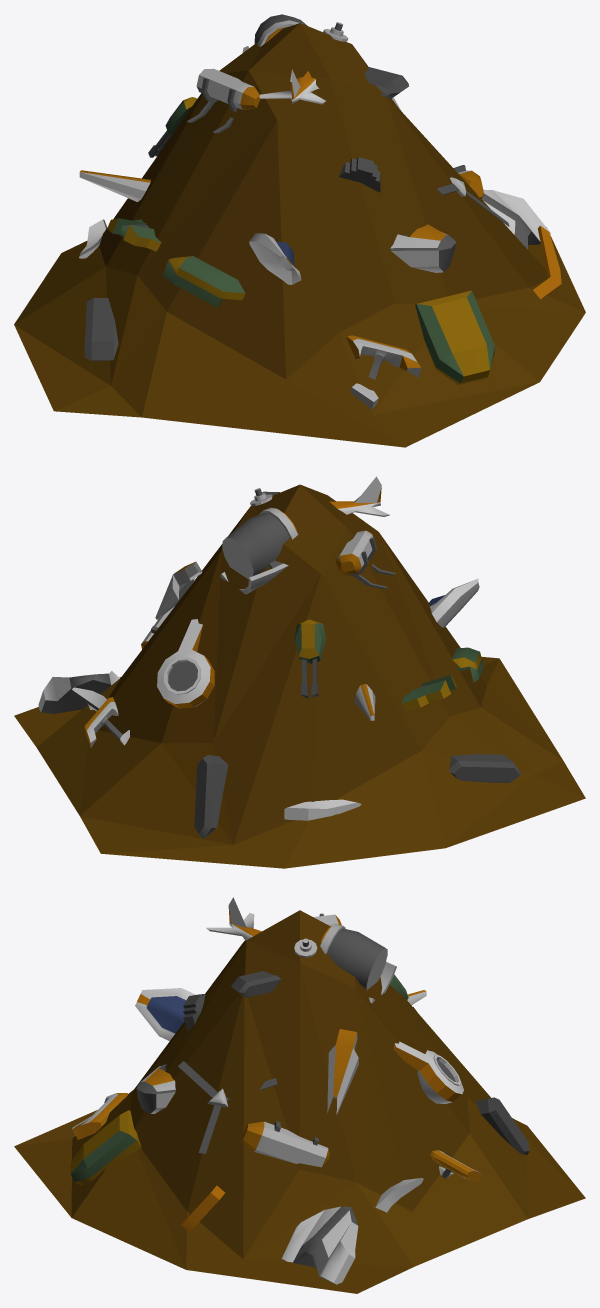
File: prop_largejunkpile1.fbx
3 renders of one model, top to bottom at view 1: azimuth 30°, elevation 25°; view 2: azimuth 150°, elevation 25°; view 3: azimuth 270°, elevation 25°, orthographic. The views are drawn at different scales.
Parts seen in each view (by area): view 1: pPlane1, junkedtank:pCube1, mini_coptor_built:pCube1, junkedtank:pCube11, mini_coptor_built:polySurface7, mini_coptor_built:polySurface6, junkedtank:pCube8, prop_junkedclawheli:polySurface12, prop_junkedclawheli:polySurface10, junkedtank:pCube3, prop_junkedclawheli:polySurface16, prop_junkedclawheli:polySurface11 (+4 smaller); view 2: pPlane1, mini_coptor_built:polySurface10, prop_junkedclawheli:polySurface14, junkedtank:pCube6, prop_junkedclawheli:polySurface12, junkedtank:pCube8, junkedtank:pCube7, mini_coptor_built:polySurface7, prop_junkedclawheli:polySurface10, prop_junkedclawheli:polySurface28, junkedtank:pCube3, mini_coptor_built:pCube4 (+4 smaller); view 3: pPlane1, prop_junkedclawheli:polySurface12, mini_coptor_built:polySurface10, junkedtank:pCube1, mini_coptor_built:polySurface8, prop_junkedclawheli:polySurface14, prop_junkedclawheli:polySurface10, mini_coptor_built:pCube4, mini_coptor_built:pCube1, junkedtank:pCube6, mini_coptor_built:pCube10, junkedtank:pCube5 (+6 smaller).
Part boxes in pixels (left/top/right/bottom): pPlane1: left=14, top=23, right=585, bottom=447; junkedtank:pCube1: left=415, top=290, right=494, bottom=384; mini_coptor_built:pCube1: left=79, top=170, right=456, bottom=272; junkedtank:pCube11: left=162, top=256, right=245, bottom=307; mini_coptor_built:polySurface7: left=187, top=68, right=260, bottom=133; mini_coptor_built:polySurface6: left=346, top=335, right=421, bottom=409; junkedtank:pCube8: left=84, top=298, right=118, bottom=360; prop_junkedclawheli:polySurface12: left=481, top=189, right=550, bottom=249; prop_junkedclawheli:polySurface10: left=249, top=233, right=301, bottom=284; junkedtank:pCube3: left=107, top=218, right=161, bottom=251; prop_junkedclawheli:polySurface16: left=533, top=225, right=561, bottom=299; prop_junkedclawheli:polySurface11: left=259, top=69, right=325, bottom=104; pPlane1: left=14, top=484, right=585, bottom=868; mini_coptor_built:polySurface10: left=220, top=507, right=298, bottom=594; prop_junkedclawheli:polySurface14: left=157, top=619, right=214, bottom=708; junkedtank:pCube6: left=194, top=755, right=228, bottom=838; prop_junkedclawheli:polySurface12: left=38, top=671, right=119, bottom=713; junkedtank:pCube8: left=449, top=754, right=520, bottom=782; junkedtank:pCube7: left=294, top=619, right=326, bottom=698; mini_coptor_built:polySurface7: left=335, top=530, right=395, bottom=588; prop_junkedclawheli:polySurface10: left=429, top=578, right=479, bottom=627; prop_junkedclawheli:polySurface28: left=284, top=799, right=361, bottom=820; junkedtank:pCube3: left=401, top=675, right=456, bottom=711; mini_coptor_built:pCube4: left=155, top=561, right=202, bottom=619; pPlane1: left=14, top=910, right=585, bottom=1293; prop_junkedclawheli:polySurface12: left=281, top=1206, right=358, bottom=1284; mini_coptor_built:polySurface10: left=320, top=924, right=396, bottom=1003; junkedtank:pCube1: left=70, top=1110, right=141, bottom=1185; mini_coptor_built:polySurface8: left=242, top=1121, right=329, bottom=1167; prop_junkedclawheli:polySurface14: left=393, top=1041, right=463, bottom=1103; prop_junkedclawheli:polySurface10: left=135, top=988, right=195, bottom=1041; mini_coptor_built:pCube4: left=327, top=1029, right=358, bottom=1114; mini_coptor_built:pCube1: left=136, top=990, right=426, bottom=1113; junkedtank:pCube6: left=475, top=1097, right=529, bottom=1154; mini_coptor_built:pCube10: left=178, top=1061, right=277, bottom=1154; junkedtank:pCube5: left=231, top=971, right=281, bottom=997.
Size of the model in its own units: 15.9 by 8.21 by 15.9.
